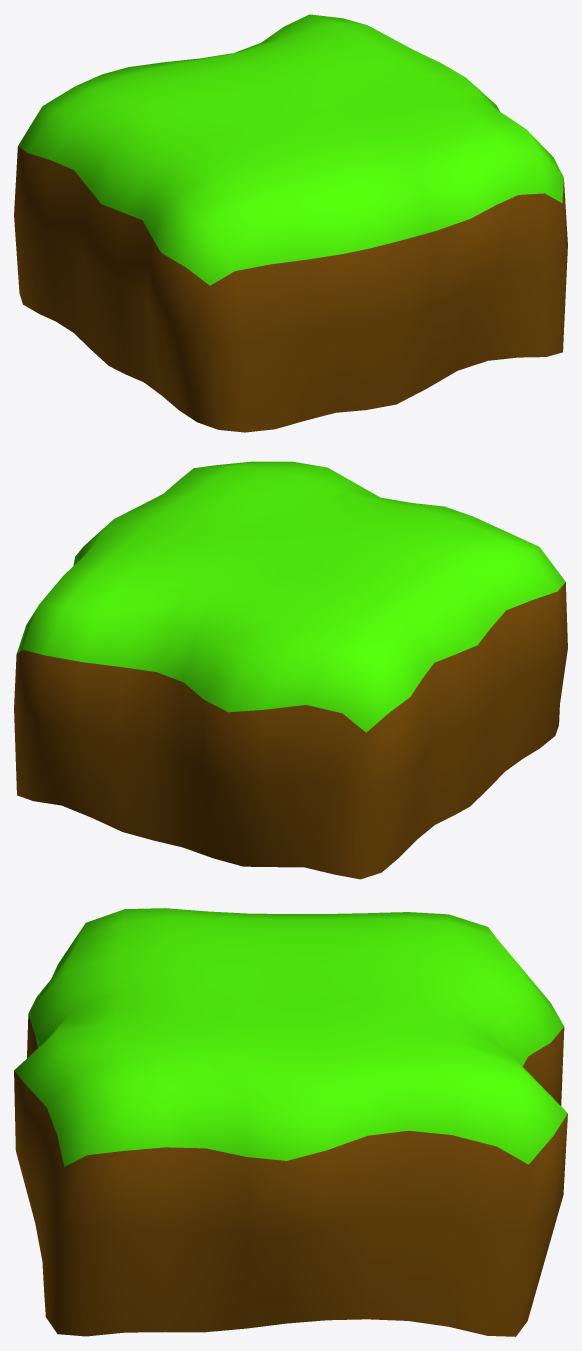
Rendered from Island2.fbx.
The picture shows the model from 3 angles, top to bottom: view 1: azimuth 30°, elevation 25°; view 2: azimuth 150°, elevation 25°; view 3: azimuth 270°, elevation 25°; orthographic projection. The views are drawn at different scales.
Parts seen in each view (by area): view 1: Plane; view 2: Plane; view 3: Plane.
Part boxes in pixels (x1,y1,x2,y2): Plane: (14, 14, 567, 432); Plane: (14, 461, 567, 879); Plane: (14, 908, 567, 1336).
Bounding box in the file's own units: 3459 × 1917 × 3553.
